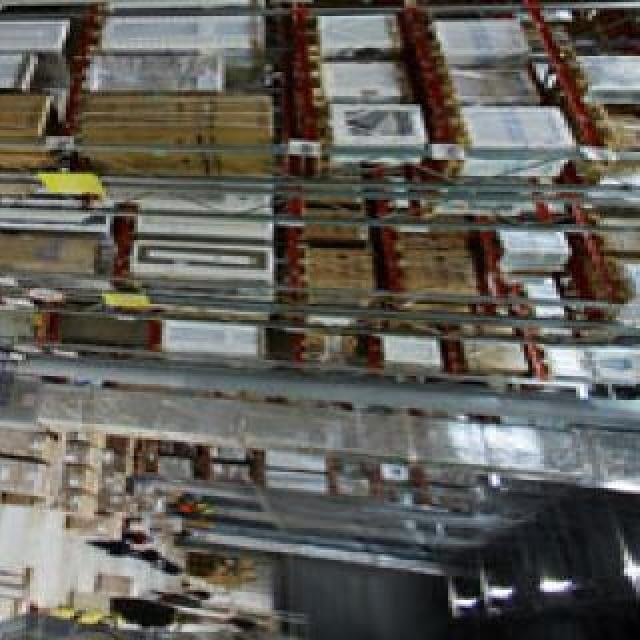fluorescent tube: (436, 582, 493, 620), (474, 573, 523, 615), (543, 575, 581, 598)
